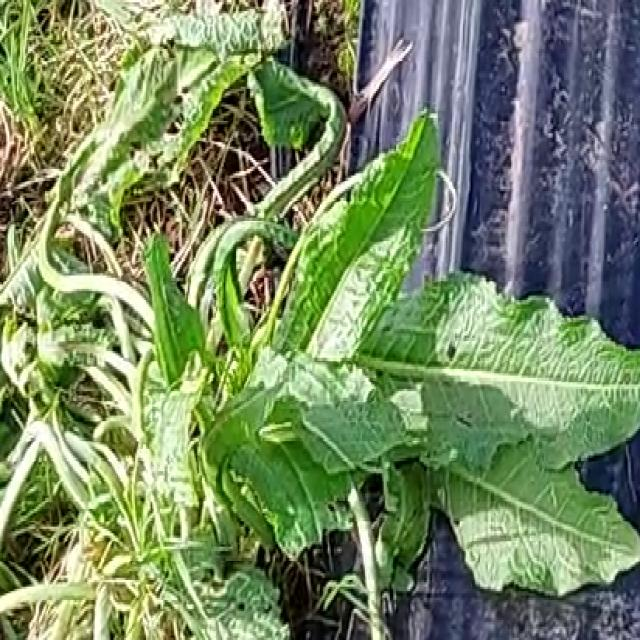organic waste: (57, 18, 640, 640)
